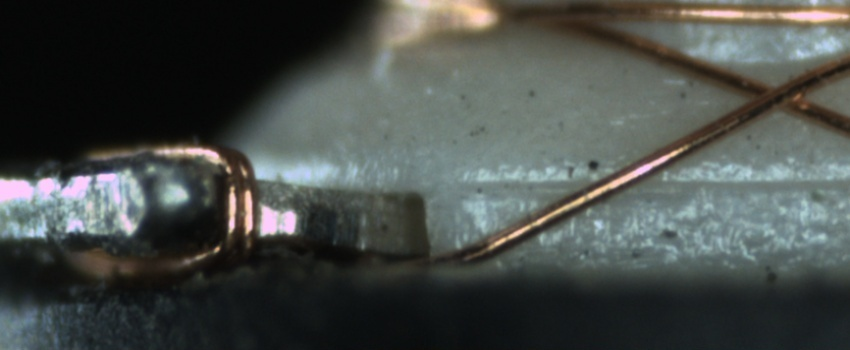CL: (732, 69, 825, 122)
DL: (461, 156, 849, 216)
TE: (52, 132, 260, 291)
